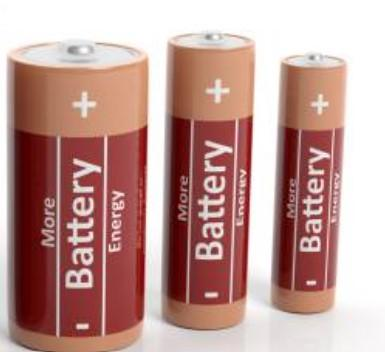Battery: (9, 40, 147, 350), (164, 34, 255, 330), (273, 54, 347, 314)
